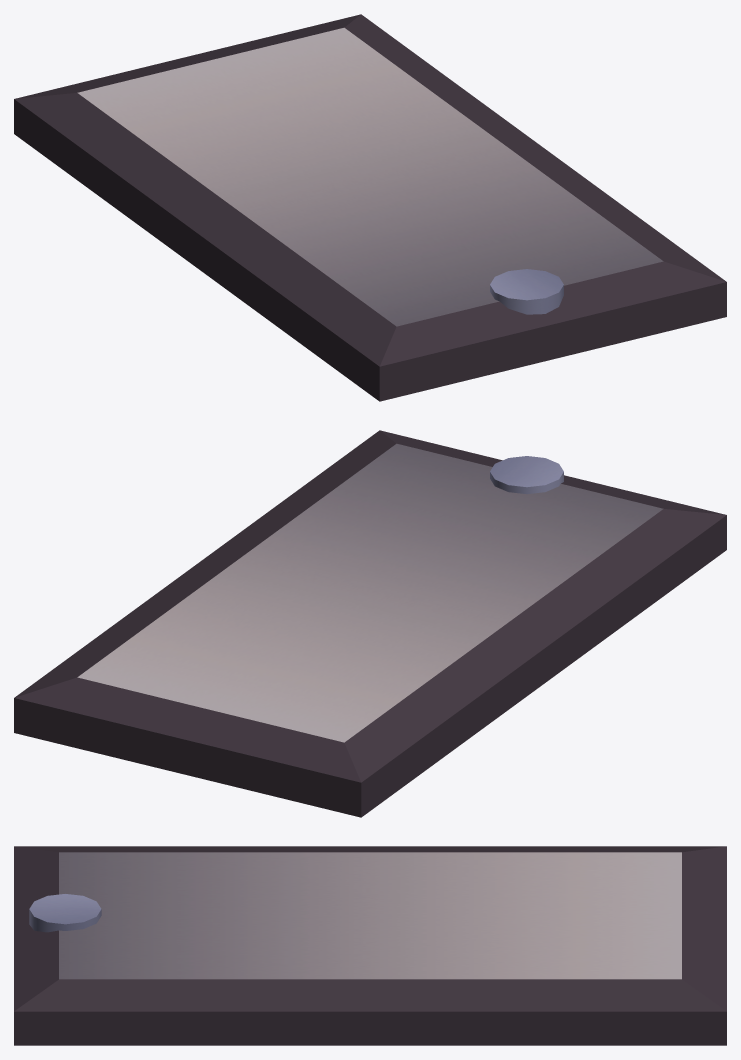
Rendered from M_phone.FBX.
3 renders of one model, top to bottom at view 1: azimuth 30°, elevation 25°; view 2: azimuth 150°, elevation 25°; view 3: azimuth 270°, elevation 25°, orthographic. The views are drawn at different scales.
Visible parts, largest first — view 1: Box014; view 2: Box014; view 3: Box014.
Boxes of the visible parts, left/top/right/bottom form: Box014: left=14, top=14, right=726, bottom=401; Box014: left=14, top=430, right=726, bottom=817; Box014: left=14, top=846, right=726, bottom=1045.
Bounding box in the file's own units: 8.52 × 15.55 × 1.3.
